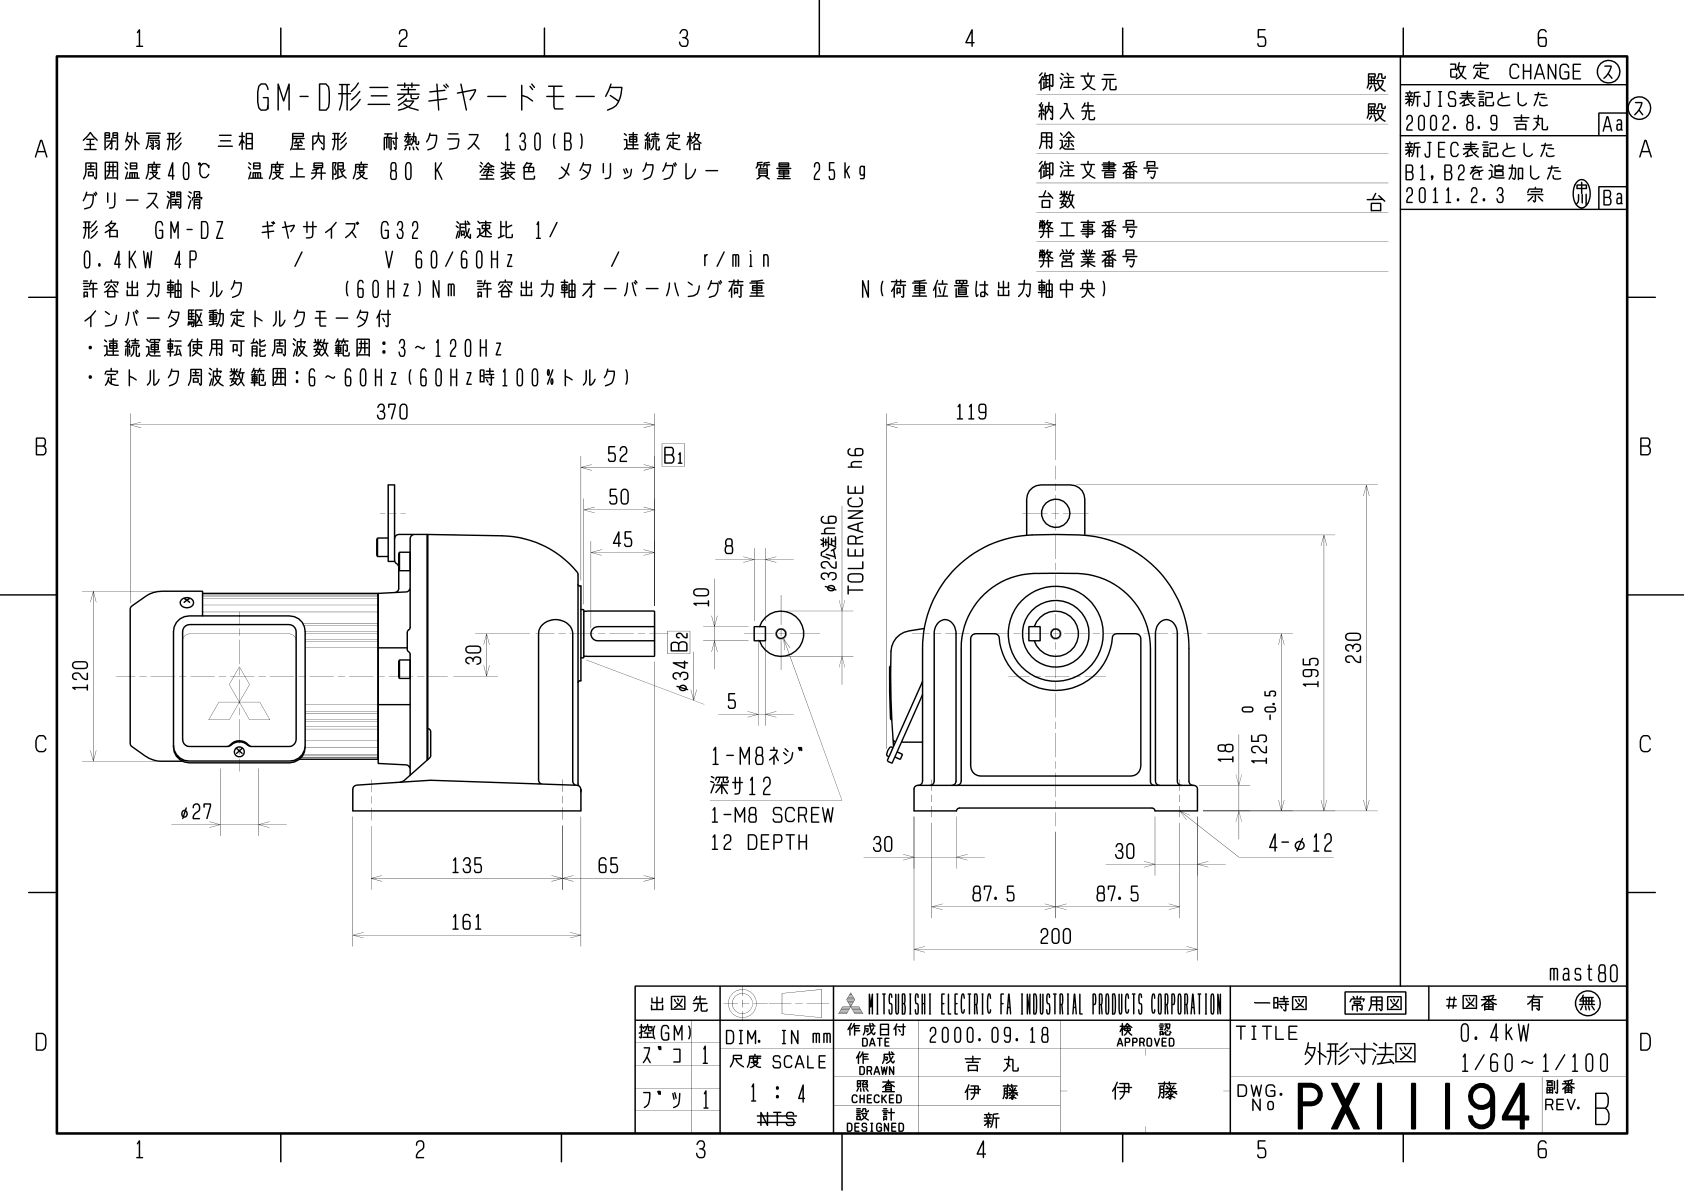GM_D_インバータ屋内_三相_脚: (1, 1, 1660, 1178)
